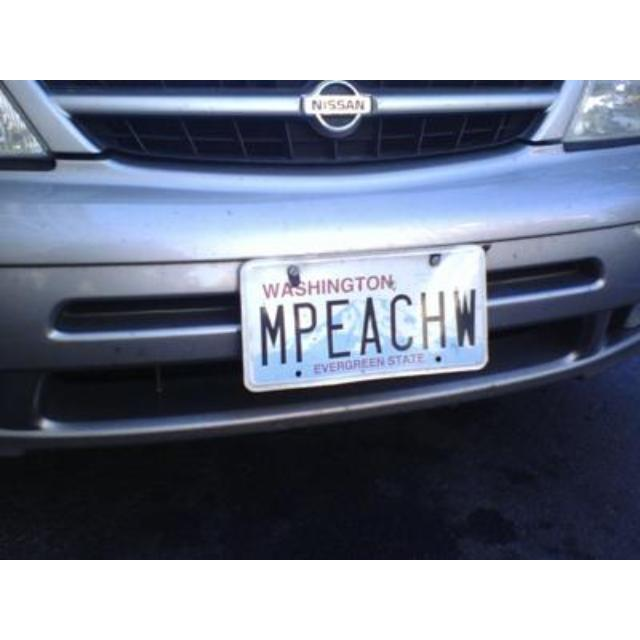car: (0, 81, 640, 448)
plate: (237, 261, 488, 365)
